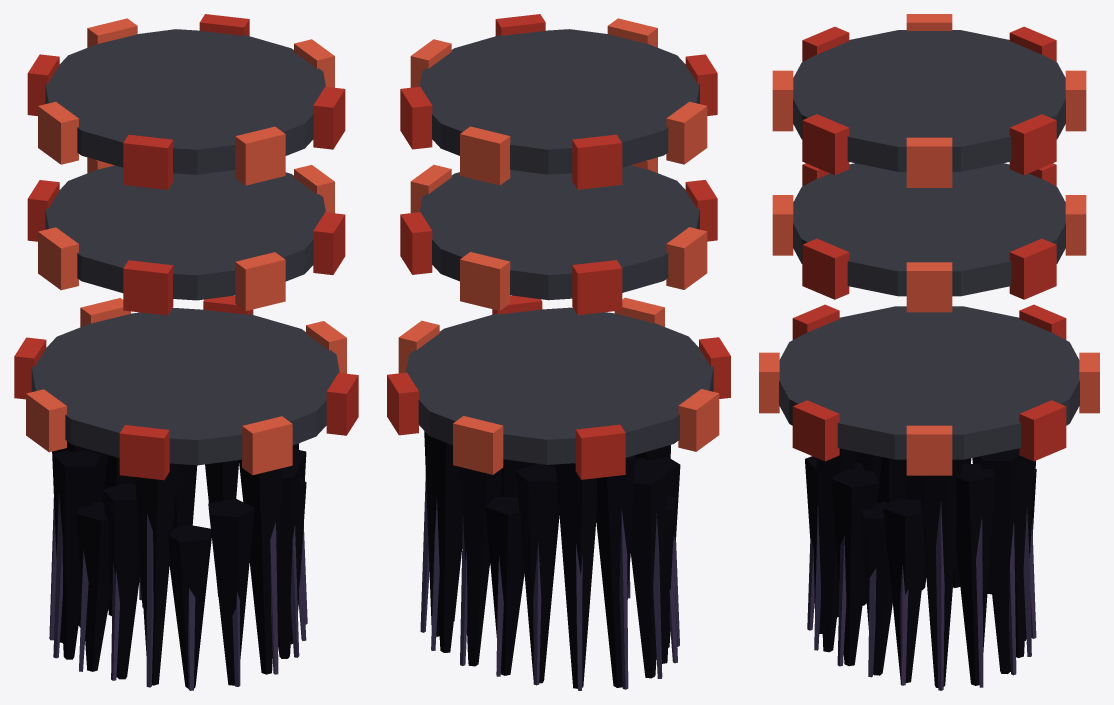
The model's file is hero_karma_body_60.glb.
The picture shows the model from 3 angles, left to right: view 1: azimuth 30°, elevation 25°; view 2: azimuth 150°, elevation 25°; view 3: azimuth 270°, elevation 25°; orthographic projection.
Visible parts, largest first — view 1: hero_karma_body_60; view 2: hero_karma_body_60; view 3: hero_karma_body_60.
Boxes of the visible parts, bbox=[...] form: hero_karma_body_60: bbox=[14, 14, 358, 690]; hero_karma_body_60: bbox=[387, 14, 730, 690]; hero_karma_body_60: bbox=[759, 14, 1099, 690].
Size of the model in its own units: 0.745 by 1.34 by 0.745.
